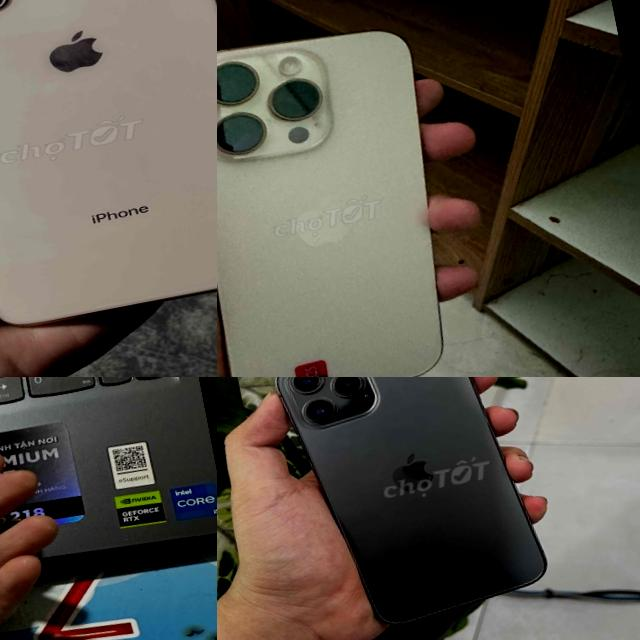gen_12_13: (267, 377, 558, 640)
gen_16: (217, 30, 442, 377)
gen_7_8: (0, 0, 217, 356)
